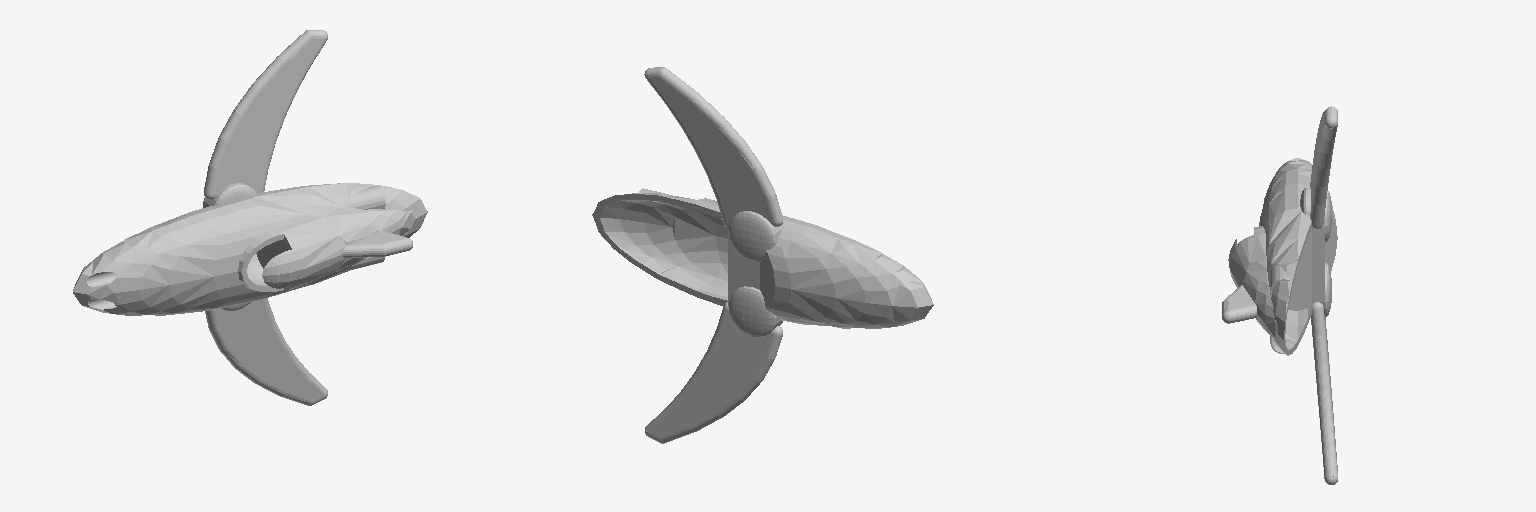
The model's file is 814_rotated_3.obj.
3 views of the same model, side by side, from view 1: azimuth 30°, elevation 25°; view 2: azimuth 150°, elevation 25°; view 3: azimuth 270°, elevation 25° (orthographic).
Visible parts, largest first — view 1: 814; view 2: 814; view 3: 814.
Boxes of the visible parts, x1=… form: 814: x1=73, y1=30, x2=427, y2=405; 814: x1=592, y1=67, x2=933, y2=443; 814: x1=1222, y1=106, x2=1337, y2=484.
Size of the model in its own units: 29.17 by 29.94 by 8.43.